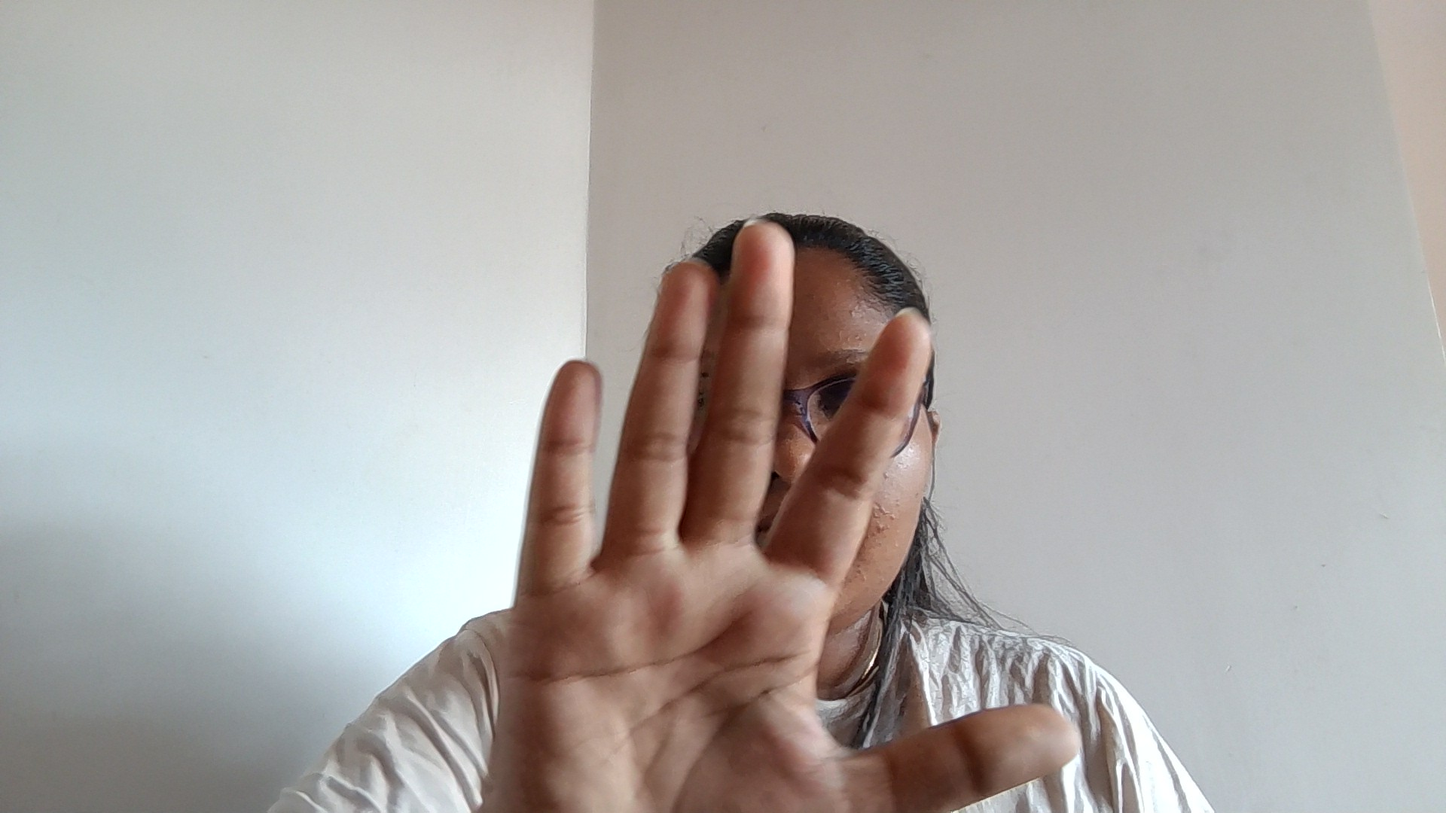Hello: (335, 167, 1058, 813)
